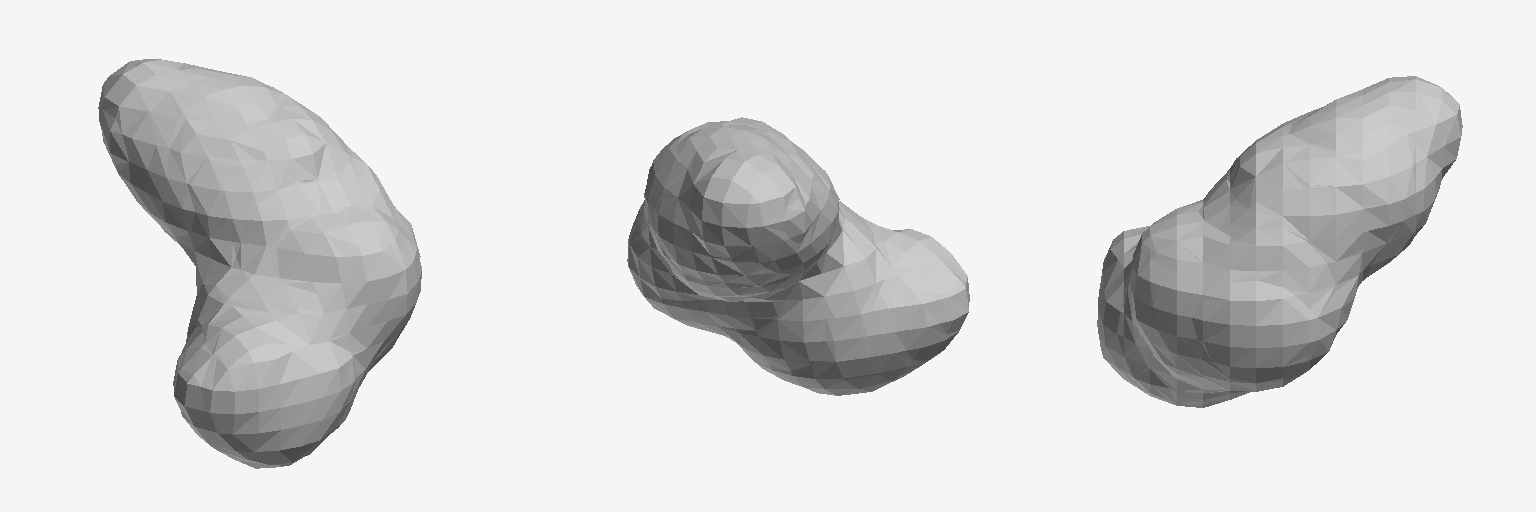
Rendered from 1ueb_1_cms.obj.
3 renders of one model, left to right at view 1: azimuth 30°, elevation 25°; view 2: azimuth 150°, elevation 25°; view 3: azimuth 270°, elevation 25°, orthographic.
Bounding box in the file's own units: 64.65 × 70.23 × 74.91.